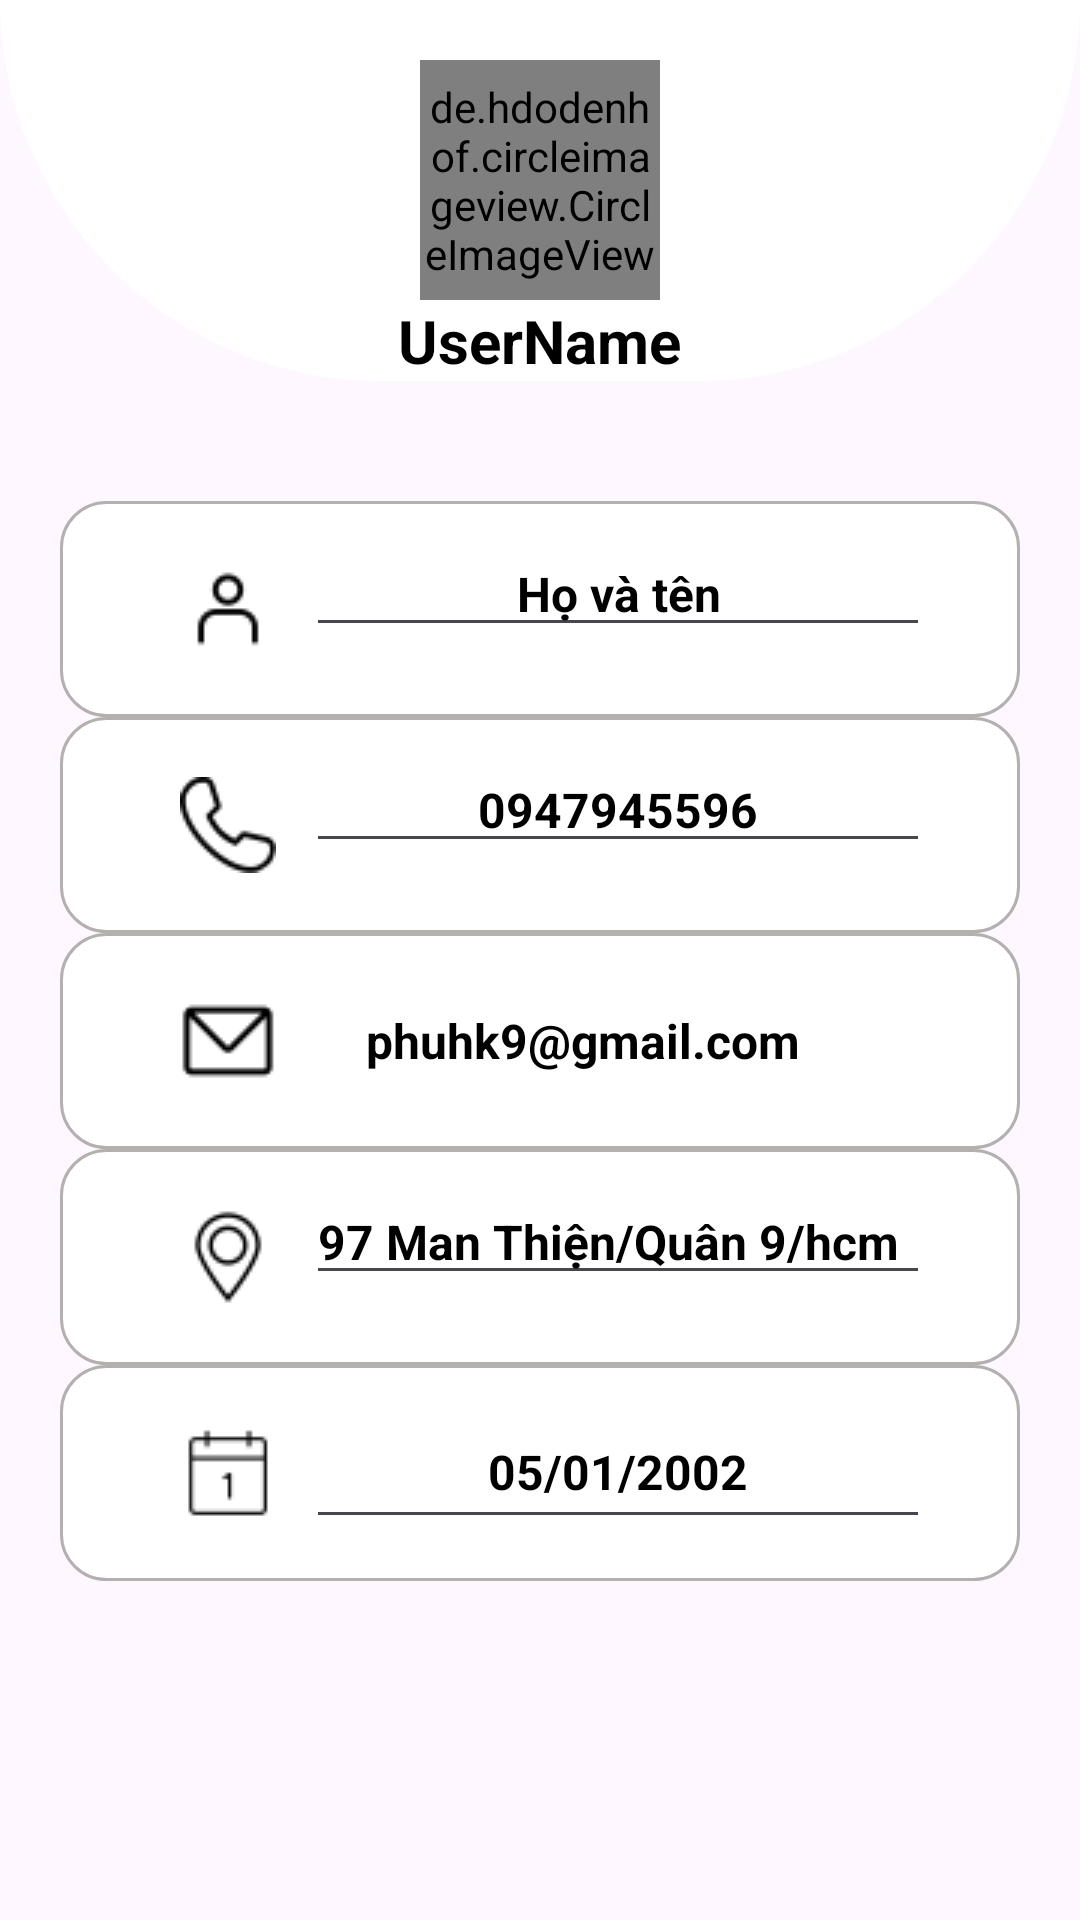

Named icons in this screenshot (1080 × 1920) and their bounding boxes, bbox=(x1, y1, x2, y2):
address: bbox=(194, 1211, 262, 1303)
calendar: bbox=(188, 1430, 268, 1516)
phone: bbox=(180, 777, 276, 873)
ursername: bbox=(197, 572, 259, 646)
